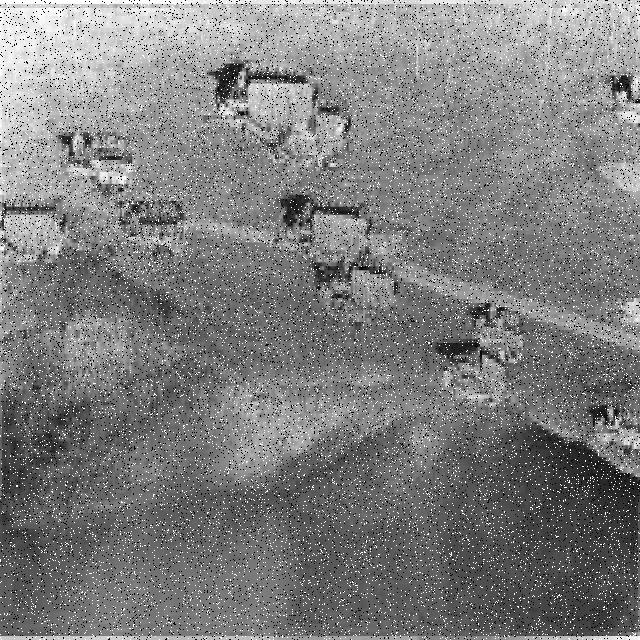MIL_MBT: (266, 195, 407, 338), (177, 56, 358, 167), (559, 338, 639, 509), (438, 287, 522, 421), (63, 79, 143, 197), (104, 185, 191, 275), (575, 64, 634, 151)
